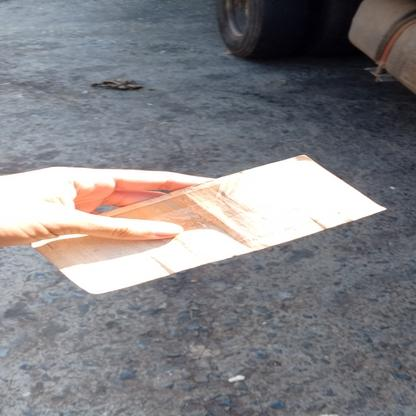five-back-vef: (30, 154, 387, 294)
